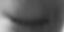LeftEyeFatigue: (2, 7, 52, 29)
